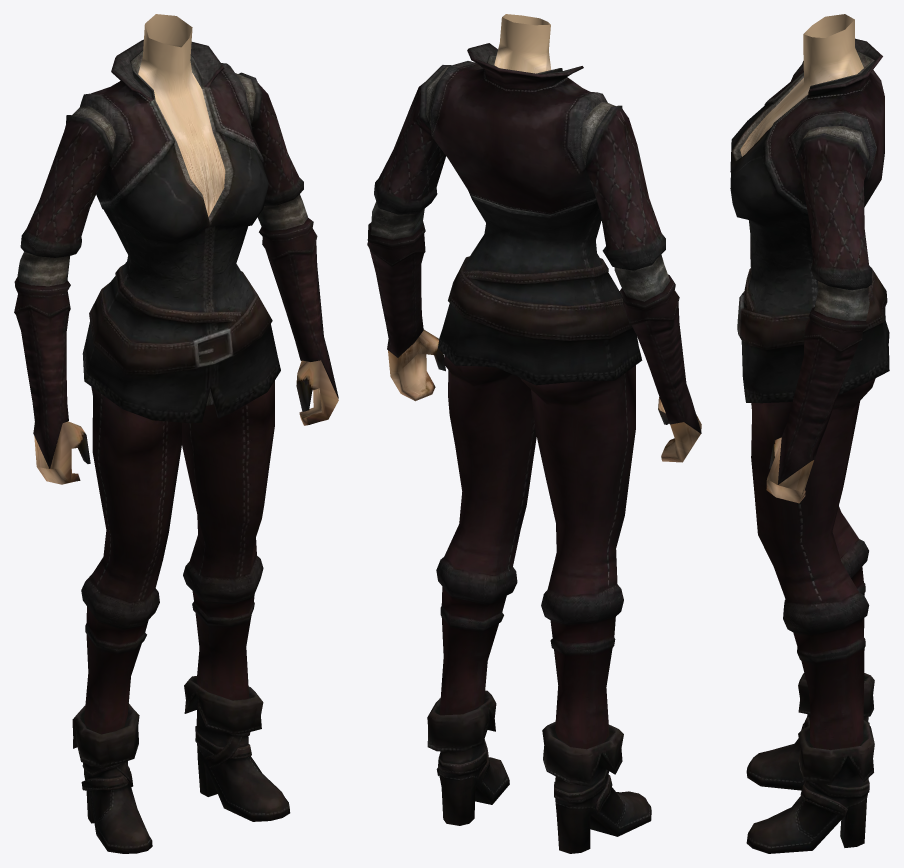
Rendered from KOSA_TRISS_BLACK.glb.
3 renders of one model, left to right at view 1: azimuth 30°, elevation 25°; view 2: azimuth 150°, elevation 25°; view 3: azimuth 270°, elevation 25°, orthographic. The views are drawn at different scales.
Visible parts, largest first — view 1: KOSA_TRISS_BLACK; view 2: KOSA_TRISS_BLACK; view 3: KOSA_TRISS_BLACK.
Boxes of the visible parts, x1,y1,x2,y2 form: KOSA_TRISS_BLACK: [14, 14, 338, 853]; KOSA_TRISS_BLACK: [367, 14, 701, 853]; KOSA_TRISS_BLACK: [730, 14, 889, 853].
Size of the model in its own units: 0.6594 by 1.67 by 0.3029.
Materials: 2 (2 with a texture image).
